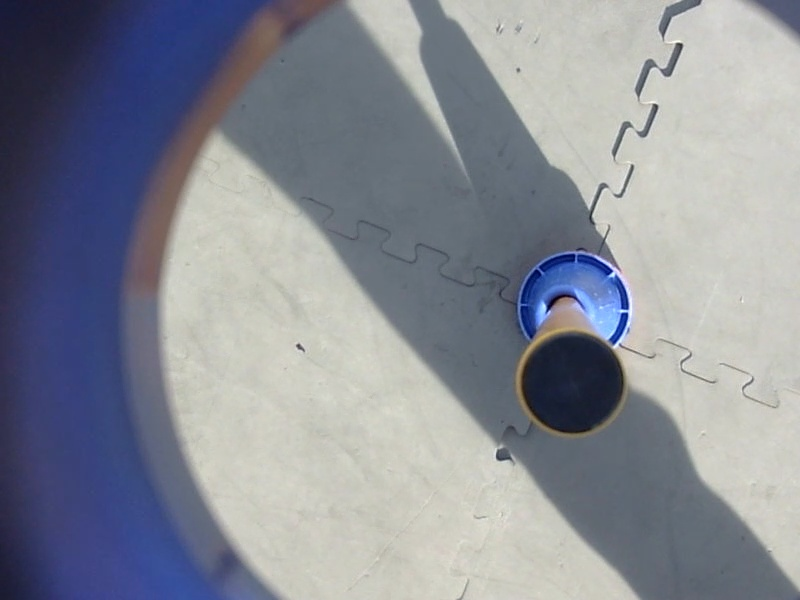tip: (509, 323, 630, 443)
